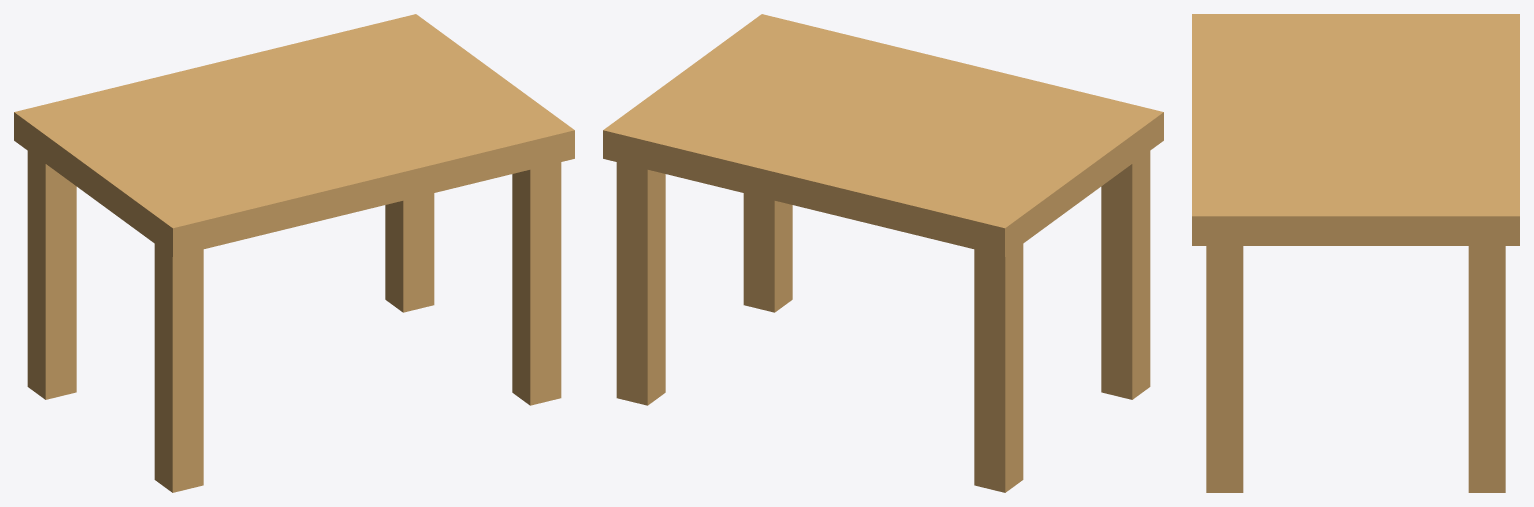
Rendered from table.obj.
3 renders of one model, left to right at view 1: azimuth 30°, elevation 25°; view 2: azimuth 150°, elevation 25°; view 3: azimuth 270°, elevation 25°, orthographic. The views are drawn at different scales.
Parts seen in each view (by area): view 1: 立方体.010; view 2: 立方体.010; view 3: 立方体.010.
Part boxes in pixels (x1,y1,x2,y2): 立方体.010: (14,14,574,492); 立方体.010: (603,14,1163,492); 立方体.010: (1192,14,1519,492).
Size of the model in its own units: 2.92 by 1.89 by 2.
Materials: 1 (1 with a texture image).
